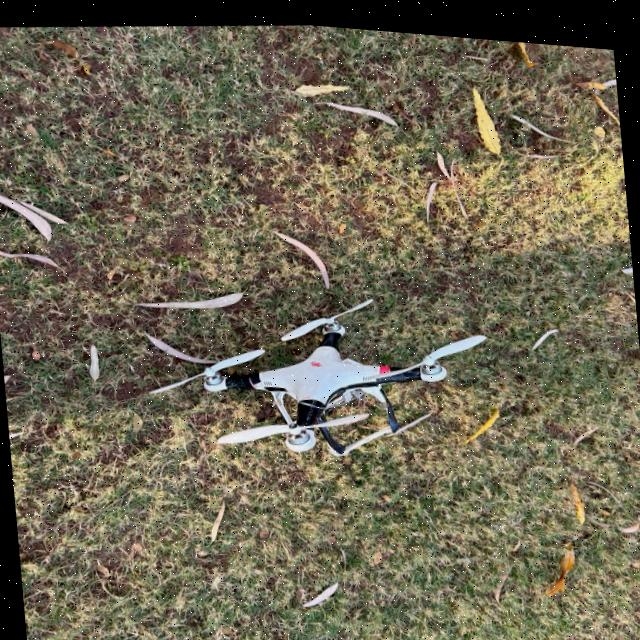drone: (59, 190, 578, 522)
